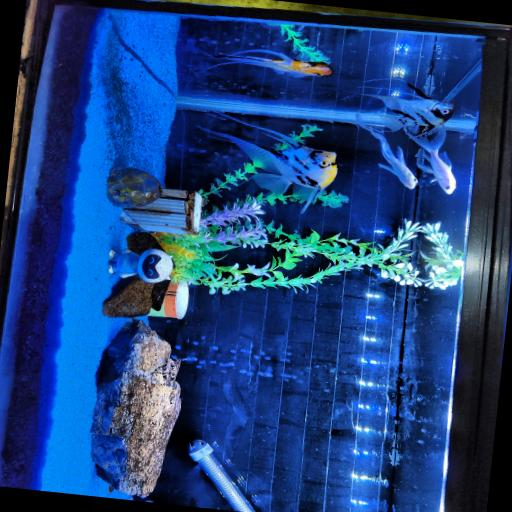Fish: (202, 115, 336, 213), (364, 83, 454, 136), (355, 115, 417, 189), (204, 50, 332, 77), (409, 128, 455, 194)
